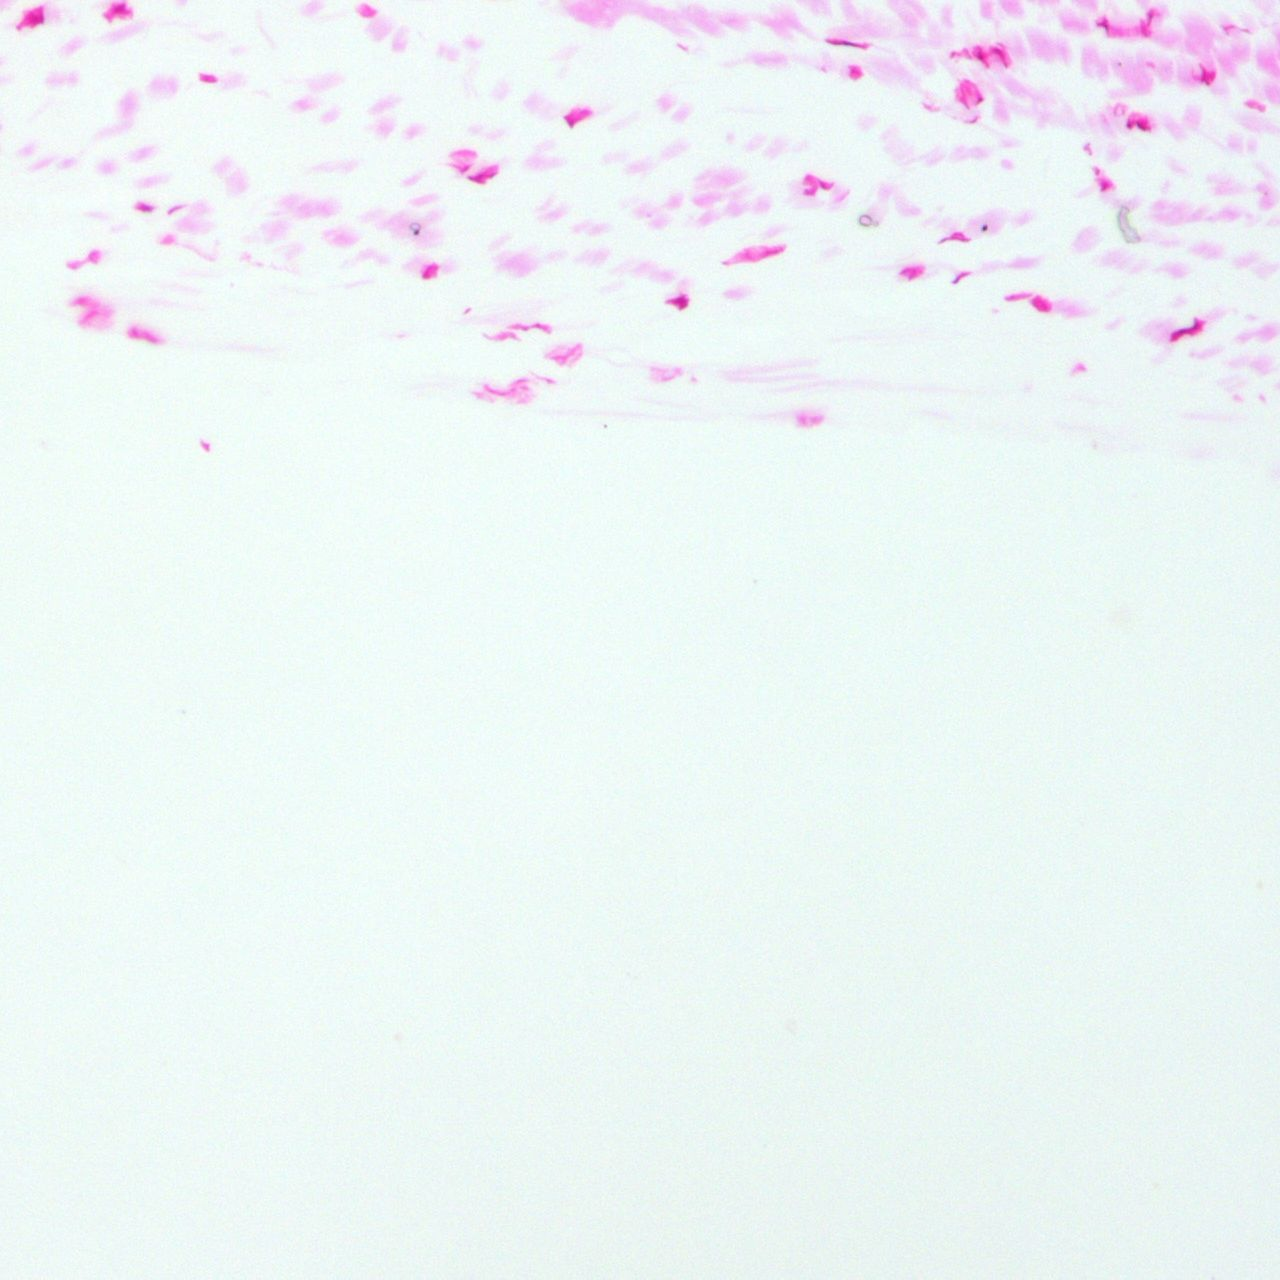dust: (1109, 203, 1144, 245), (857, 215, 874, 226), (410, 222, 420, 234), (980, 224, 988, 232), (602, 423, 608, 428), (1118, 62, 1122, 67)
nucleus-FG: (1167, 316, 1205, 342), (554, 341, 580, 365), (990, 45, 1013, 70), (508, 322, 551, 333), (1029, 297, 1055, 314), (973, 47, 990, 70), (28, 7, 47, 28), (828, 38, 865, 48), (949, 268, 972, 285), (483, 386, 511, 399), (484, 331, 515, 342), (667, 294, 689, 309), (421, 263, 438, 280), (80, 307, 98, 324), (468, 173, 496, 184), (1005, 291, 1029, 302), (1125, 121, 1150, 132), (937, 236, 971, 244), (1096, 18, 1109, 35), (1199, 64, 1210, 86), (899, 265, 922, 274), (135, 202, 154, 212), (849, 64, 862, 79), (166, 203, 182, 215), (564, 113, 576, 128), (198, 74, 217, 83), (1145, 9, 1155, 28), (760, 248, 781, 257), (458, 162, 472, 173), (113, 1, 127, 11), (540, 376, 556, 384), (1099, 181, 1109, 192), (819, 181, 828, 191), (515, 377, 526, 383), (975, 97, 983, 105), (132, 328, 139, 338)
